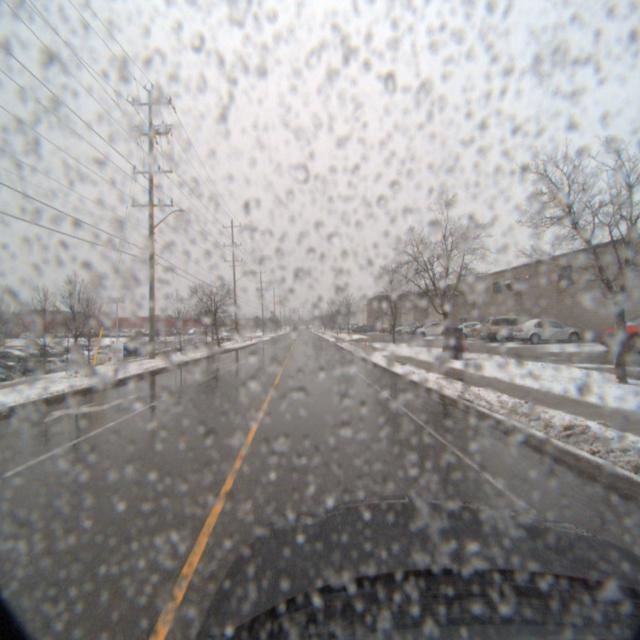Car: (508, 315, 591, 345), (477, 314, 547, 342), (452, 320, 500, 342), (416, 322, 454, 338)
